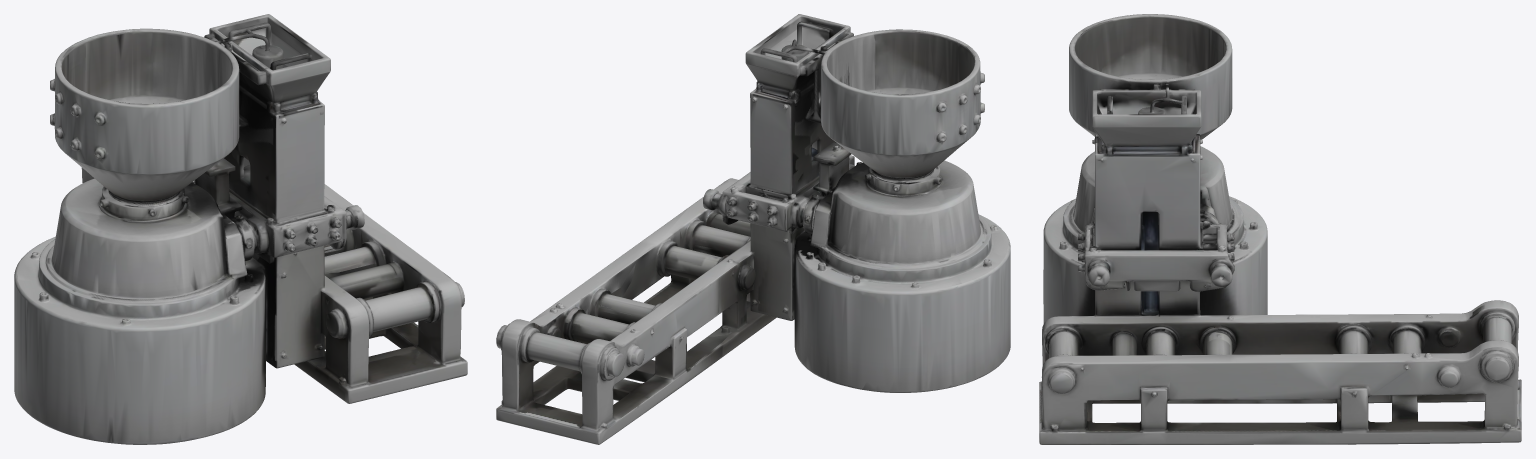
The model's file is lianzhuji_opt.glb.
The picture shows the model from 3 angles, left to right: view 1: azimuth 30°, elevation 25°; view 2: azimuth 150°, elevation 25°; view 3: azimuth 270°, elevation 25°; orthographic projection. The views are drawn at different scales.
Parts seen in each view (by area): view 1: node_0; view 2: node_0; view 3: node_0.
Part boxes in pixels (<box>): node_0: <box>14,14,467,444</box>; node_0: <box>496,14,1010,444</box>; node_0: <box>1039,14,1521,444</box>.
Bounding box in the file's own units: 0.6741 × 0.5572 × 0.8485.
Materials: 1 (1 with a texture image).
